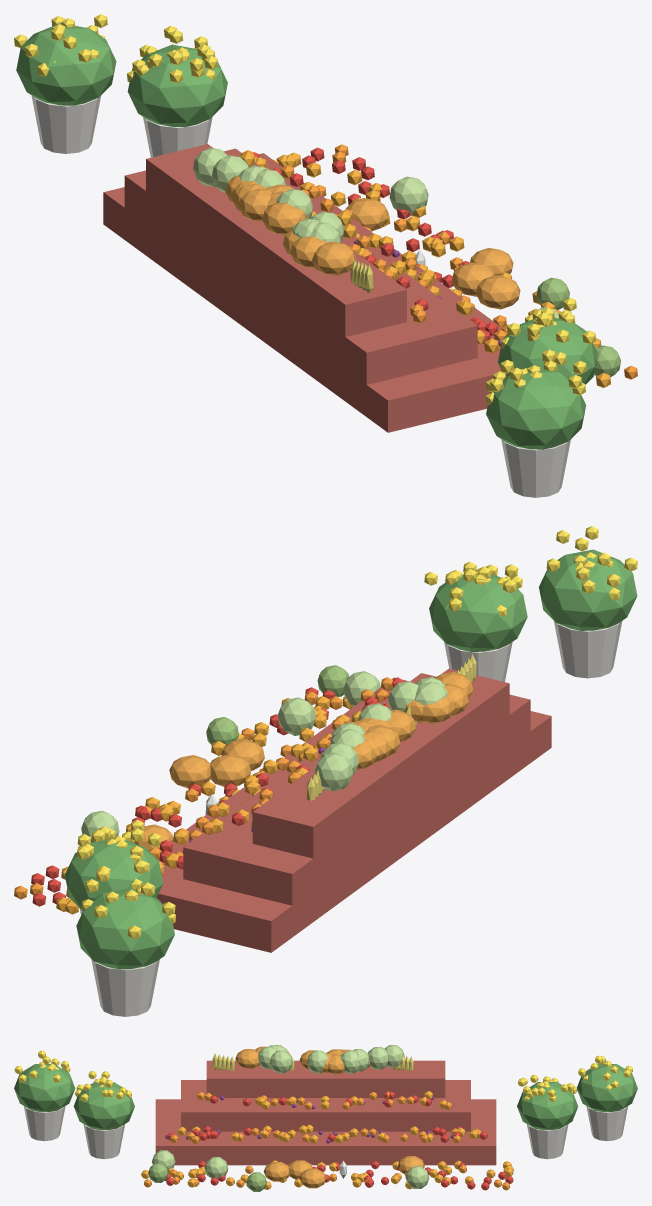
The model's file is harvest.glb.
3 views of the same model, one above another, from view 1: azimuth 30°, elevation 25°; view 2: azimuth 150°, elevation 25°; view 3: azimuth 270°, elevation 25° (orthographic). The views are drawn at different scales.
Parts seen in each view (by area): view 1: hv_cloth, hv_leaf, hv_pumpkin, hv_pot, hv_mum, hv_cabbage, hv_orange, hv_apple, hv_persimmon, hv_melon; view 2: hv_cloth, hv_leaf, hv_pumpkin, hv_pot, hv_mum, hv_cabbage, hv_orange, hv_persimmon, hv_apple, hv_melon, hv_banana; view 3: hv_cloth, hv_leaf, hv_pot, hv_cabbage, hv_orange, hv_pumpkin, hv_mum, hv_apple, hv_persimmon, hv_melon, hv_banana, hv_grape.
Boxes of the visible parts, left/top/right/bottom form: hv_cloth: left=103, top=144, right=501, bottom=432; hv_leaf: left=16, top=23, right=597, bottom=449; hv_pumpkin: left=225, top=175, right=520, bottom=309; hv_pot: left=31, top=96, right=570, bottom=497; hv_mum: left=14, top=14, right=596, bottom=404; hv_cabbage: left=193, top=147, right=558, bottom=318; hv_orange: left=240, top=152, right=610, bottom=387; hv_apple: left=250, top=147, right=497, bottom=343; hv_persimmon: left=241, top=144, right=637, bottom=379; hv_melon: left=536, top=277, right=620, bottom=376; hv_cloth: left=157, top=668, right=551, bottom=952; hv_leaf: left=64, top=549, right=637, bottom=969; hv_pumpkin: left=134, top=672, right=473, bottom=850; hv_pot: left=79, top=621, right=622, bottom=1016; hv_mum: left=76, top=526, right=637, bottom=939; hv_cabbage: left=81, top=671, right=447, bottom=842; hv_orange: left=56, top=696, right=360, bottom=914; hv_persimmon: left=14, top=674, right=392, bottom=899; hv_apple: left=31, top=677, right=404, bottom=906; hv_melon: left=206, top=665, right=349, bottom=744; hv_banana: left=306, top=654, right=476, bottom=800; hv_cloth: left=155, top=1060, right=496, bottom=1165; hv_leaf: left=14, top=1064, right=637, bottom=1129; hv_pot: left=24, top=1106, right=627, bottom=1159; hv_cabbage: left=152, top=1045, right=429, bottom=1188; hv_orange: left=141, top=1091, right=513, bottom=1189; hv_pumpkin: left=235, top=1046, right=424, bottom=1188; hv_mum: left=14, top=1050, right=632, bottom=1101; hv_apple: left=165, top=1091, right=513, bottom=1190; hv_persimmon: left=144, top=1091, right=509, bottom=1190; hv_melon: left=148, top=1163, right=266, bottom=1191; hv_banana: left=212, top=1053, right=413, bottom=1070; hv_grape: left=165, top=1096, right=453, bottom=1143.
Size of the model in its own units: 2.17 by 1.1 by 7.32.
